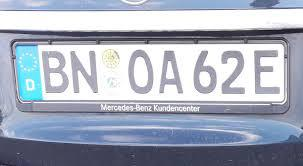2: (218, 49, 248, 96)
6: (189, 50, 219, 94)
A: (158, 49, 185, 95)
B: (39, 50, 70, 94)
E: (252, 50, 279, 95)
N: (68, 50, 100, 95)
O: (125, 48, 155, 95)
